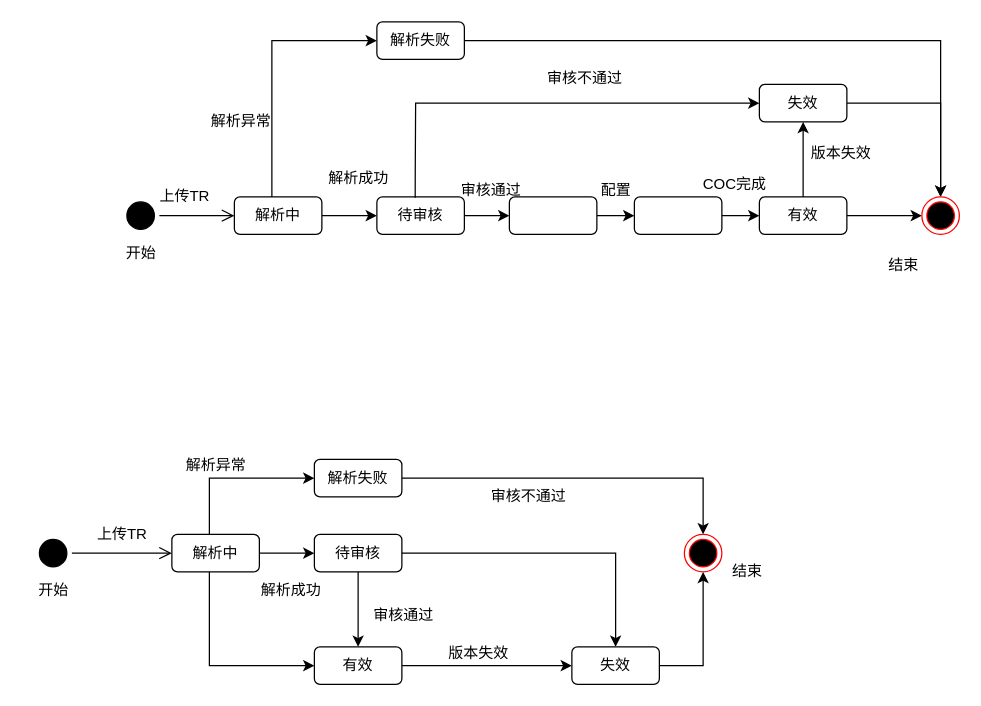
The diagram is 981 pixels wide and 706 high, and some of its shapes have lost their labels. The centre of each missing label's shape, as x and y in pixels:
"COC进行中" goes at point (677, 215).
"待COC配置" goes at point (552, 215).
